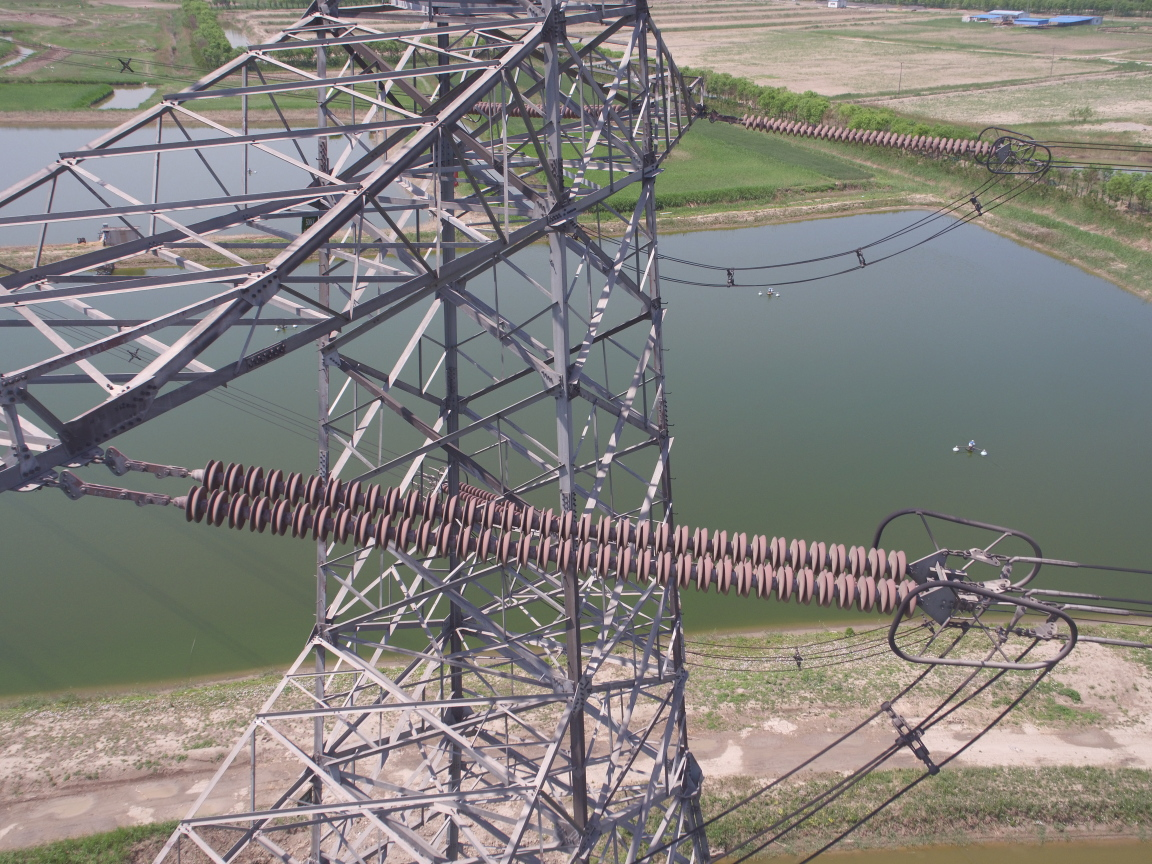insulator: (146, 453, 940, 619), (724, 111, 1005, 160)
